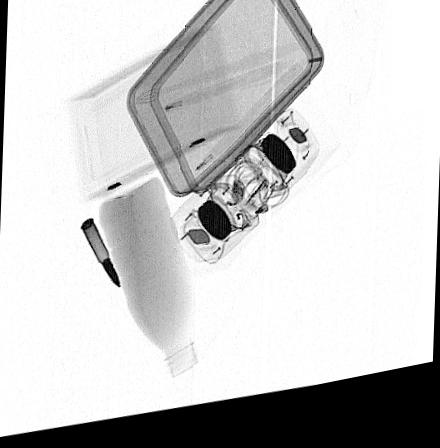Bullet: (79, 220, 121, 292)
